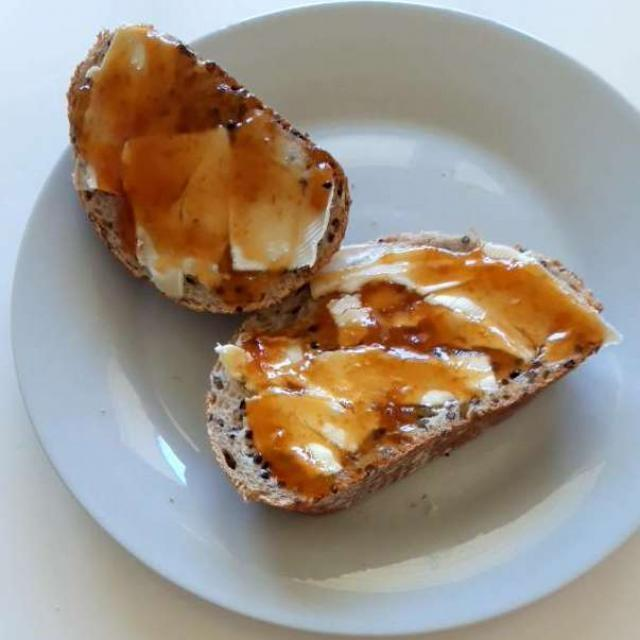bread: (68, 29, 618, 514)
butter: (84, 27, 562, 488)
jam: (92, 48, 586, 494)
